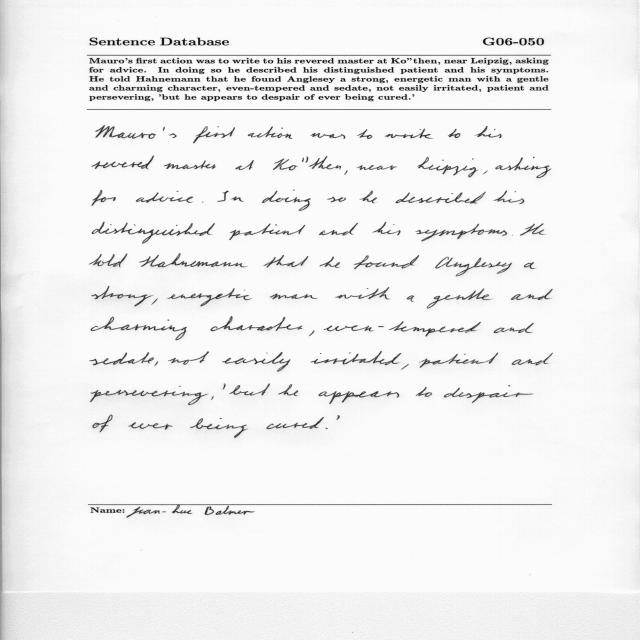word: (92, 222, 215, 243), (324, 321, 481, 337), (90, 386, 208, 405), (91, 317, 187, 340), (139, 253, 248, 268), (444, 385, 533, 403), (416, 224, 507, 241), (168, 288, 252, 306), (435, 257, 512, 276), (211, 317, 303, 332), (223, 352, 291, 372), (427, 289, 492, 309), (311, 351, 401, 365), (417, 157, 478, 177), (92, 287, 153, 307), (229, 224, 305, 240), (419, 353, 498, 368), (496, 157, 552, 178), (190, 418, 248, 438), (96, 125, 177, 139), (395, 192, 486, 204), (319, 391, 399, 404), (262, 190, 311, 211), (273, 156, 341, 170), (354, 255, 419, 269), (89, 353, 154, 366), (91, 156, 154, 169), (193, 126, 235, 143), (266, 417, 324, 429), (136, 191, 193, 203), (335, 287, 390, 299), (168, 351, 209, 365), (248, 126, 292, 139), (264, 255, 308, 268), (89, 254, 128, 268), (512, 353, 553, 365), (384, 129, 433, 139), (164, 161, 216, 170), (319, 223, 358, 235), (511, 289, 553, 300), (229, 384, 270, 395), (493, 190, 524, 204), (494, 323, 534, 333), (92, 190, 116, 206), (373, 222, 401, 235), (128, 422, 173, 430), (93, 415, 113, 432), (475, 126, 502, 138), (520, 223, 544, 236), (217, 191, 244, 202), (270, 294, 318, 300), (320, 256, 340, 268), (278, 384, 298, 396), (360, 191, 377, 204), (310, 133, 345, 139), (357, 165, 397, 170), (235, 160, 254, 170), (357, 129, 373, 139), (416, 387, 432, 397), (448, 129, 460, 138), (327, 197, 346, 202), (524, 262, 536, 269), (407, 295, 414, 302), (401, 364, 409, 370), (152, 299, 158, 305), (309, 331, 314, 337), (483, 171, 488, 175), (154, 361, 158, 366), (336, 415, 340, 420), (223, 384, 226, 390), (345, 170, 348, 175), (211, 396, 214, 400), (326, 428, 328, 429), (202, 202, 203, 203)
